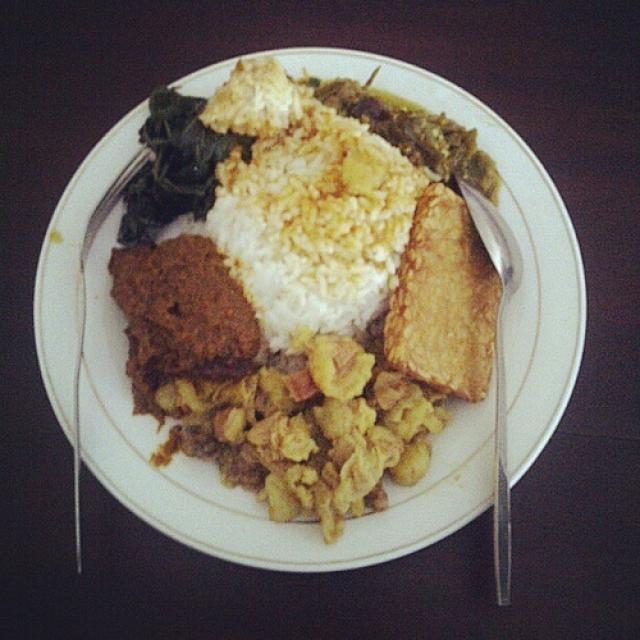米饭主食: (26, 21, 595, 599)
